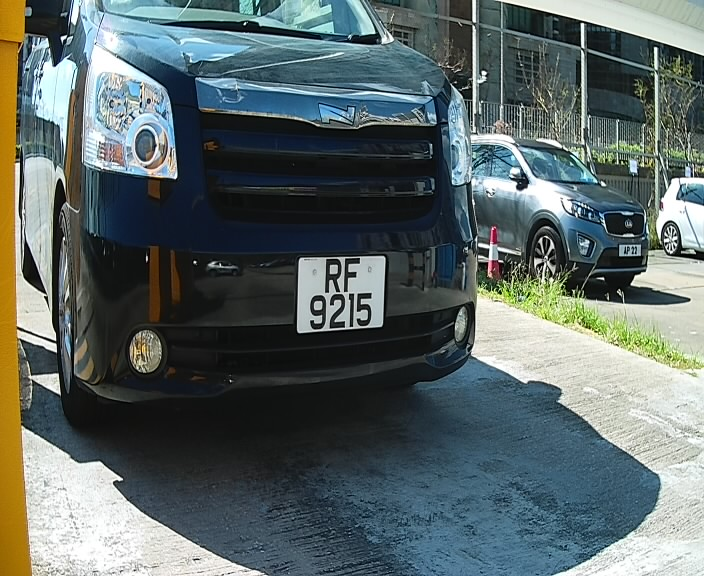License Plate: (292, 247, 394, 342)
